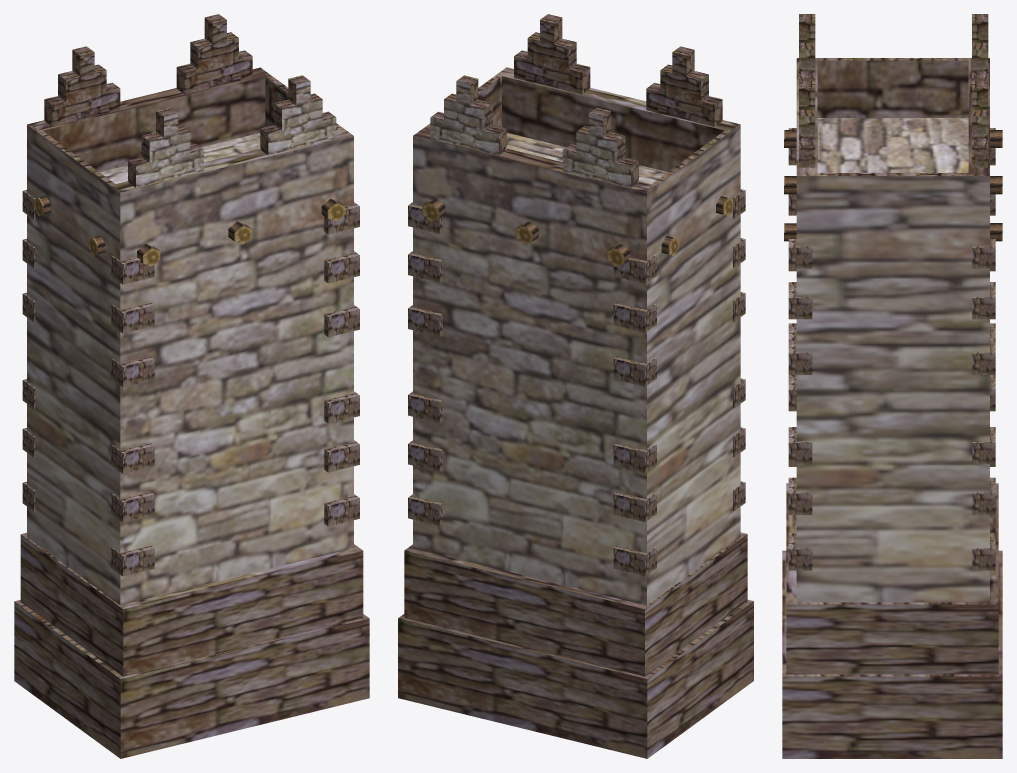
Rendered from wall_short.dae.
The picture shows the model from 3 angles, left to right: view 1: azimuth 30°, elevation 25°; view 2: azimuth 150°, elevation 25°; view 3: azimuth 270°, elevation 25°; orthographic projection. The views are drawn at different scales.
Visible parts, largest first — view 1: wall_short; view 2: wall_short; view 3: wall_short.
Boxes of the visible parts, <box> form: wall_short: <box>14,14,369,758</box>; wall_short: <box>398,14,753,758</box>; wall_short: <box>782,14,1002,758</box>.
Bounding box in the file's own units: 8.56 × 6.31 × 20.4.
